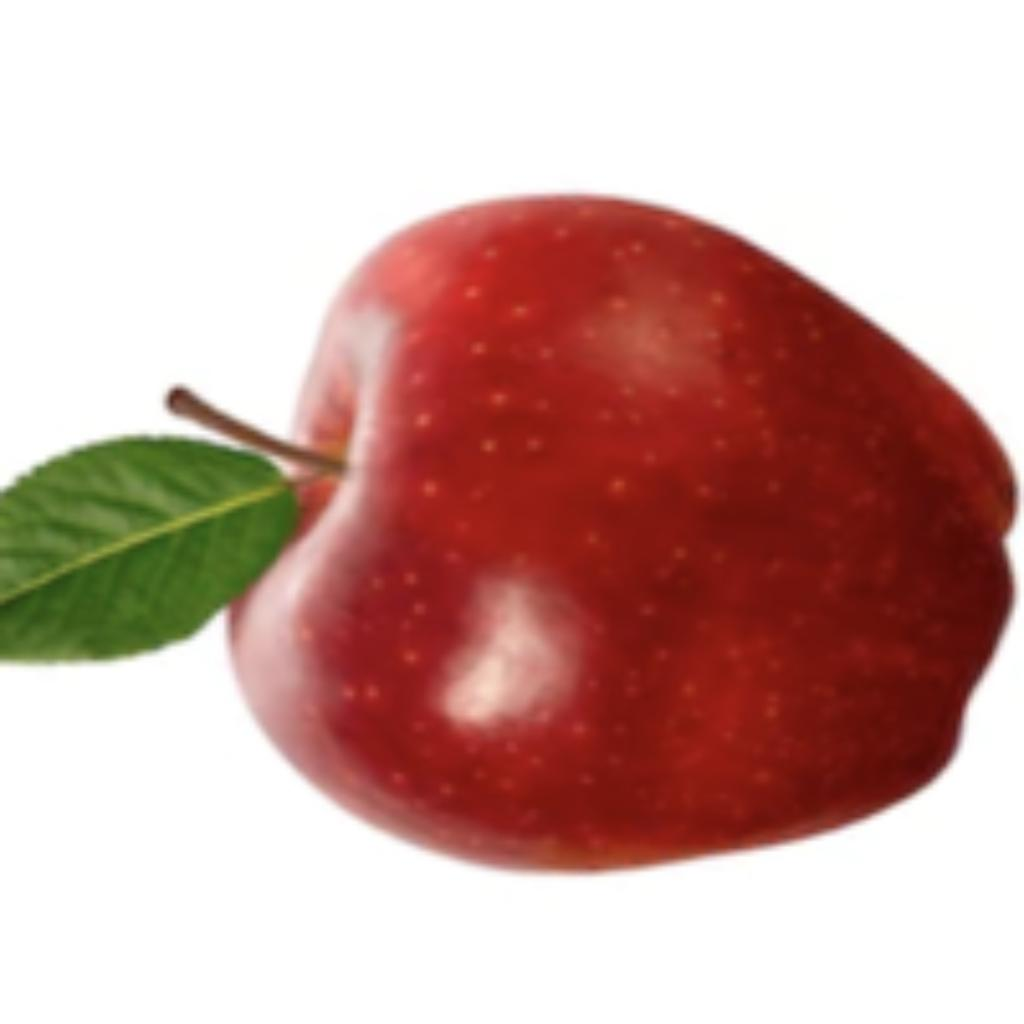apple: (0, 184, 1019, 881)
